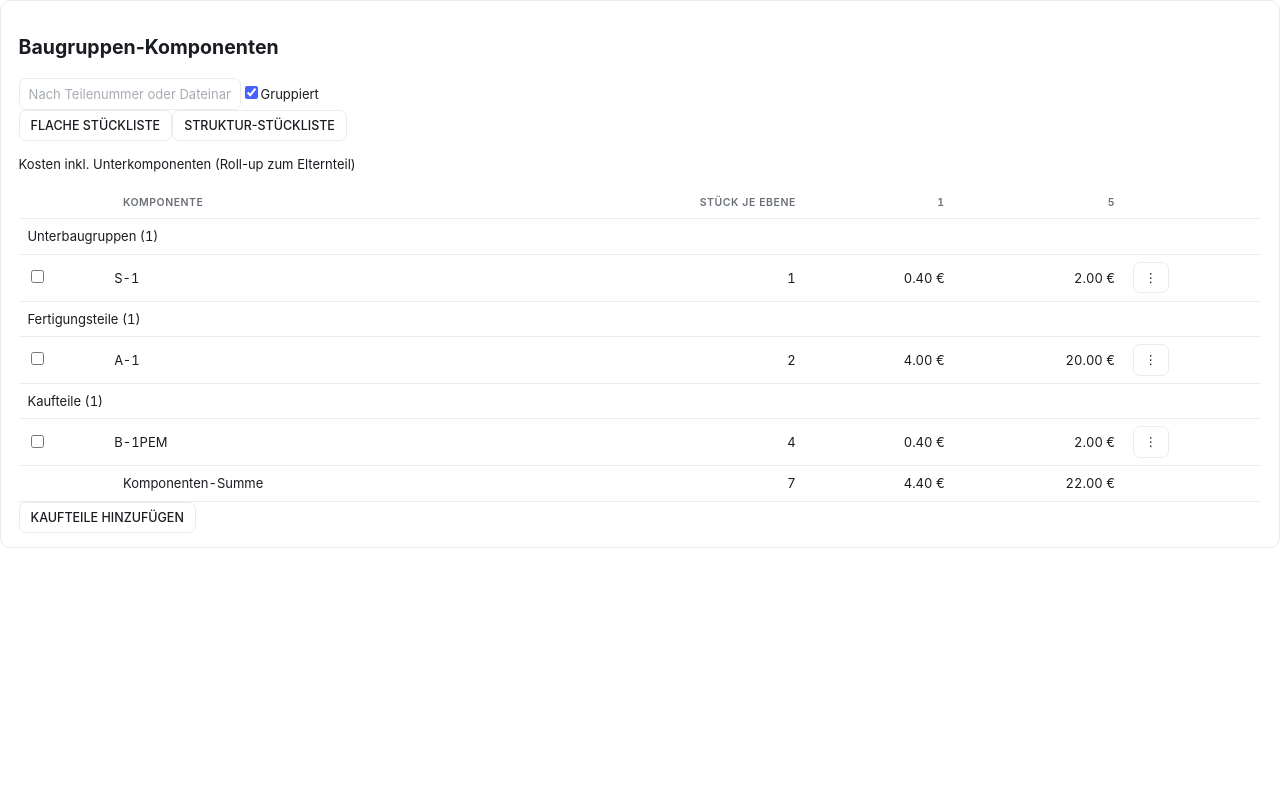
AssemblyComponentsSection › switches to FLAT BOM with the no-rollup caption
The width and height of the screenshot is (1280, 800).
expect the text "Fertigungsteile (1)" is shown: met, box [19,301,1261,336]
Click the tab "FLACHE STÜCKLISTE" at (95, 126), box [19,110,172,142]
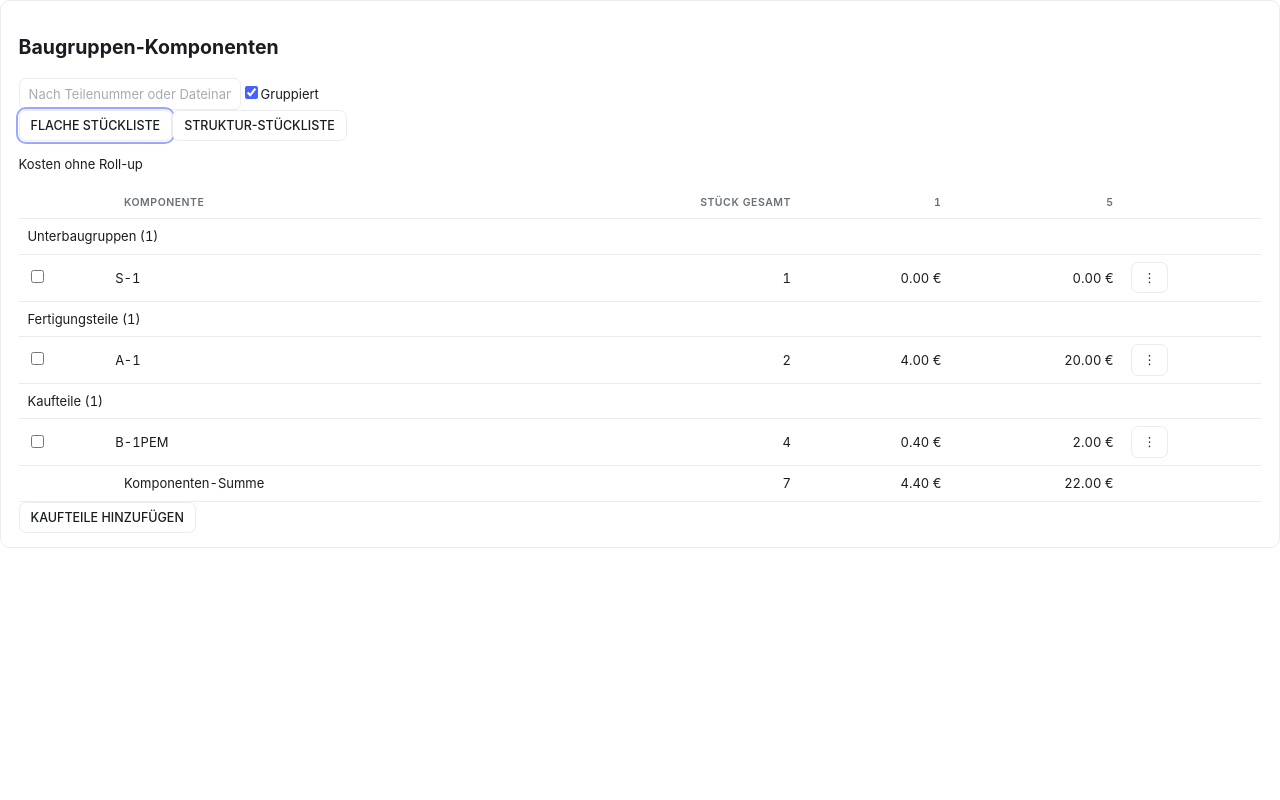
expect the text "Kosten ohne Roll-up" is shown: met, box [19,156,143,172]
